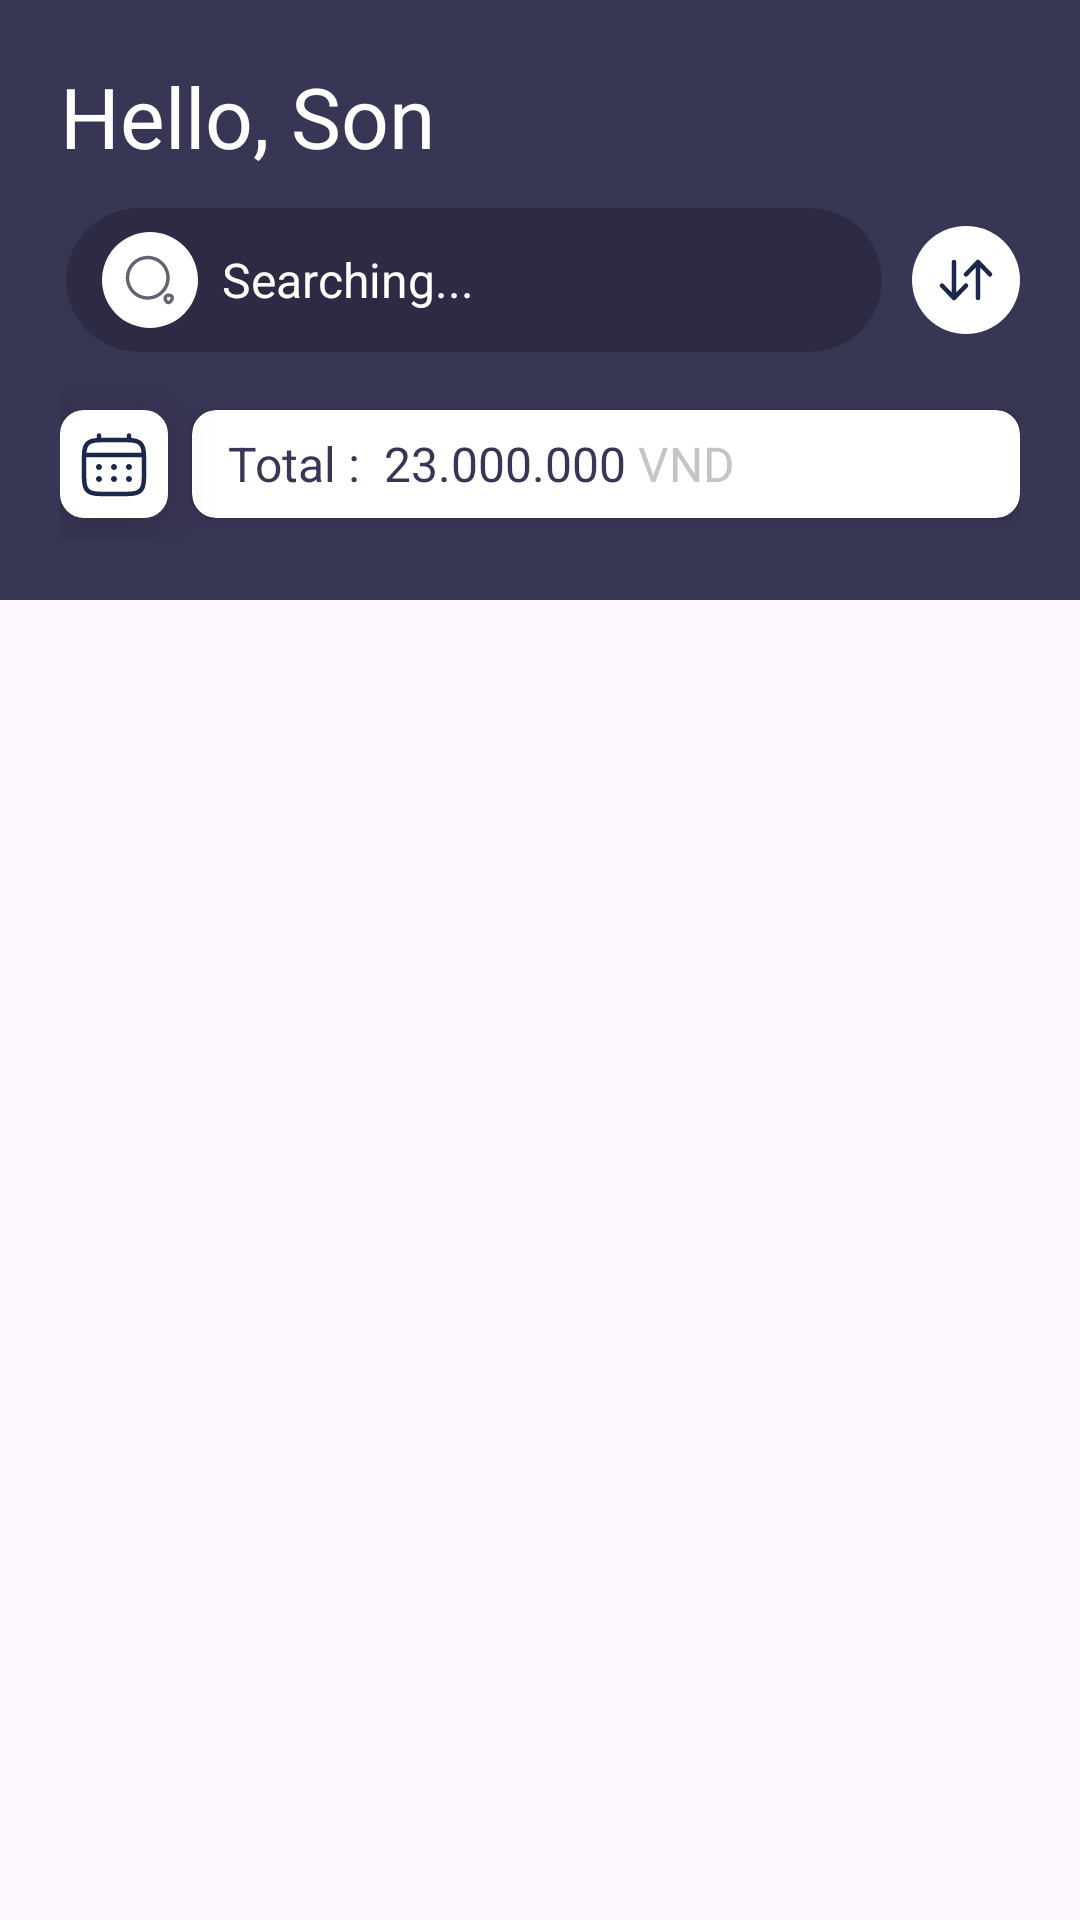

Named icons in this screenshot (1080px×1920px) and their centers, (x=x, y=y):
calendar: (x=114, y=464)
sort: (x=966, y=280)
